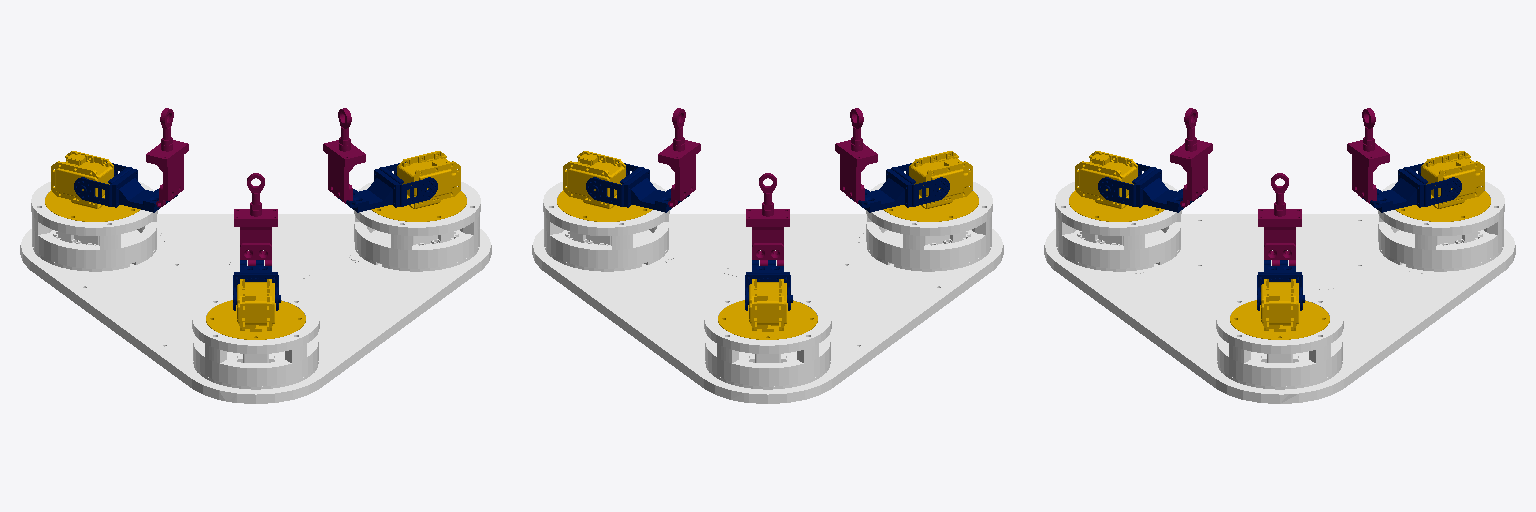
robot.urdf — arms:
<?xml version="1.0"?>

<robot name="arms">

  <link name="World_Link">
    <visual>
      <origin xyz="0 0 0" rpy="0 0 0" />
      <geometry>
        <mesh filename="package://rp3ba/meshes/World_Link.STL" />
      </geometry>
      <material name="">
        <color rgba="1 1 1 0.5" />
      </material>
    </visual>
  </link>
  
   <!-- ROBOT 1 !-->  
  
  <link name="L1R1_Link">
    <visual>
      <geometry>
        <mesh filename="package://rp3ba/meshes/L1_Link.STL" />
      </geometry>
      <material name="">
        <color rgba="0.92 0.71 0 1" />
      </material>
    </visual>
  </link>
  
  <link name="L2R1_Link">
    <visual>
      <geometry>
        <mesh filename="package://rp3ba/meshes/L2_Link.STL" />
      </geometry>
      <material name="">
        <color rgba="0 0.11 0.36 1" />
      </material>
    </visual>
  </link>
  
  <link name="L3R1_Link">
    <visual>
      <geometry>
        <mesh filename="package://rp3ba/meshes/L3_Link.STL" />
      </geometry>
      <material name="">
        <color rgba="0.51 0.06 0.31 1" />
      </material>
    </visual>
  </link>  

  <joint name="dxl_11" type="continuous">
    <origin xyz="0.175 0  0.0077" rpy="0 0 -3.1416" />
    <parent link="World_Link" />
    <child link="L1R1_Link" />
    <axis xyz="0 0 1" />
  </joint>
  
  <joint name="dxl_21" type="continuous">
    <origin xyz="0 0 0.059" rpy="1.5708 0 0" />
    <parent link="L1R1_Link" />
    <child link="L2R1_Link" />
    <axis xyz="0 0 1" />
  </joint>  
  
  <joint name="dxl_31" type="continuous">
    <origin xyz="0.0784 0 0" rpy="0 0 0" />
    <parent link="L2R1_Link" />
    <child link="L3R1_Link" />
    <axis xyz="0 0 1" />
  </joint>

   <!-- ROBOT 2 !-->  
  
  <link name="L1R2_Link">
    <visual>
      <geometry>
        <mesh filename="package://rp3ba/meshes/L1_Link.STL" />
      </geometry>
      <material name="">
        <color rgba="0.92 0.71 0 1" />
      </material>
    </visual>
  </link>
  
  <link name="L2R2_Link">
    <visual>
      <geometry>
        <mesh filename="package://rp3ba/meshes/L2_Link.STL" />
      </geometry>
      <material name="">
        <color rgba="0 0.11 0.36 1" />
      </material>
    </visual>
  </link>
  
  <link name="L3R2_Link">
    <visual>
      <geometry>
        <mesh filename="package://rp3ba/meshes/L3_Link.STL" />
      </geometry>
      <material name="">
        <color rgba="0.51 0.06 0.31 1" />
      </material>
    </visual>
  </link>  
  
   <link name ="AxR2_Link" />
  
   <joint name="Ax2_Joint" type="fixed">
    <origin xyz="0 0 0" rpy="0 0 2.0944" />
    <parent link="World_Link" />
    <child link="AxR2_Link" />
  </joint>

  <joint name="dxl_12" type="continuous">
    <origin xyz="0.175 0  0.0077" rpy="0 0 -3.1416" />
    <parent link="AxR2_Link" />
    <child link="L1R2_Link" />
    <axis xyz="0 0 1" />
  </joint>
  
  <joint name="dxl_22" type="continuous">
    <origin xyz="0 0 0.059" rpy="1.5708 0 0" />
    <parent link="L1R2_Link" />
    <child link="L2R2_Link" />
    <axis xyz="0 0 1" />
  </joint>  
  
  <joint name="dxl_32" type="continuous">
    <origin xyz="0.0784 0 0" rpy="0 0 0" />
    <parent link="L2R2_Link" />
    <child link="L3R2_Link" />
    <axis xyz="0 0 1" />
  </joint>
   
   <!-- ROBOT 3 !-->  
  
  <link name="L1R3_Link">
    <visual>
      <geometry>
        <mesh filename="package://rp3ba/meshes/L1_Link.STL" />
      </geometry>
      <material name="">
        <color rgba="0.92 0.71 0 1" />
      </material>
    </visual>
  </link>
  
  <link name="L2R3_Link">
    <visual>
      <geometry>
        <mesh filename="package://rp3ba/meshes/L2_Link.STL" />
      </geometry>
      <material name="">
        <color rgba="0 0.11 0.36 1" />
      </material>
    </visual>
  </link>
  
  <link name="L3R3_Link">
    <visual>
      <geometry>
        <mesh filename="package://rp3ba/meshes/L3_Link.STL" />
      </geometry>
      <material name="">
        <color rgba="0.51 0.06 0.31 1" />
      </material>
    </visual>
  </link>  

   <link name ="AxR3_Link" />
  
   <joint name="AxR3_Joint" type="fixed">
    <origin xyz="0 0 0" rpy="0 0 -2.0944" />
    <parent link="World_Link" />
    <child link="AxR3_Link" />
  </joint>

  <joint name="dxl_13" type="continuous">
    <origin xyz="0.175 0  0.0077" rpy="0 0 -3.1416" />
    <parent link="AxR3_Link" />
    <child link="L1R3_Link" />
    <axis xyz="0 0 1" />
  </joint>
  
  <joint name="dxl_23" type="continuous">
    <origin xyz="0 0 0.059" rpy="1.5708 0 0" />
    <parent link="L1R3_Link" />
    <child link="L2R3_Link" />
    <axis xyz="0 0 1" />
  </joint>  
  
  <joint name="dxl_33" type="continuous">
    <origin xyz="0.0784 0 0" rpy="0 0 0" />
    <parent link="L2R3_Link" />
    <child link="L3R3_Link" />
    <axis xyz="0 0 1" />
  </joint>

</robot>

--- Facts derived from the render (not from the file) ---
The picture shows the robot from 3 angles, left to right: view 1: azimuth 30°, elevation 25°; view 2: azimuth 150°, elevation 25°; view 3: azimuth 270°, elevation 25°; orthographic projection.
Model arms with 12 links and 11 joints (9 continuous, 2 fixed), rooted at World_Link, posed every joint at zero.
Links seen in each view (by area): view 1: World_Link, L1R3_Link, L1R1_Link, L1R2_Link, L3R3_Link, L2R1_Link, L2R2_Link, L3R2_Link, L3R1_Link, L2R3_Link; view 2: World_Link, L1R2_Link, L1R3_Link, L1R1_Link, L3R2_Link, L2R3_Link, L2R1_Link, L3R1_Link, L3R3_Link, L2R2_Link; view 3: World_Link, L1R1_Link, L1R2_Link, L1R3_Link, L3R1_Link, L2R2_Link, L2R3_Link, L3R3_Link, L3R2_Link, L2R1_Link.
Link boxes in pixels (bbox=[...]): World_Link: bbox=[20, 181, 491, 403]; L1R3_Link: bbox=[206, 279, 305, 339]; L1R1_Link: bbox=[371, 151, 466, 221]; L1R2_Link: bbox=[45, 151, 140, 221]; L3R3_Link: bbox=[234, 173, 277, 265]; L2R1_Link: bbox=[338, 162, 437, 212]; L2R2_Link: bbox=[74, 162, 177, 212]; L3R2_Link: bbox=[146, 108, 188, 207]; L3R1_Link: bbox=[323, 108, 365, 203]; L2R3_Link: bbox=[233, 260, 280, 310]; World_Link: bbox=[532, 181, 1003, 403]; L1R2_Link: bbox=[718, 279, 817, 339]; L1R3_Link: bbox=[883, 151, 978, 221]; L1R1_Link: bbox=[557, 151, 652, 221]; L3R2_Link: bbox=[746, 173, 789, 265]; L2R3_Link: bbox=[850, 162, 949, 212]; L2R1_Link: bbox=[586, 162, 689, 212]; L3R1_Link: bbox=[658, 108, 700, 207]; L3R3_Link: bbox=[835, 108, 877, 203]; L2R2_Link: bbox=[745, 260, 792, 310]; World_Link: bbox=[1044, 181, 1515, 403]; L1R1_Link: bbox=[1230, 279, 1329, 339]; L1R2_Link: bbox=[1395, 151, 1490, 221]; L1R3_Link: bbox=[1069, 151, 1164, 221]; L3R1_Link: bbox=[1258, 173, 1301, 265]; L2R2_Link: bbox=[1362, 162, 1461, 212]; L2R3_Link: bbox=[1098, 162, 1201, 212]; L3R3_Link: bbox=[1170, 108, 1212, 207]; L3R2_Link: bbox=[1347, 108, 1389, 203]; L2R1_Link: bbox=[1257, 260, 1304, 310].
Bounding box of the posed robot: 0.4025 × 0.4431 × 0.1696 m (x, y, z).
Meshes: 4 distinct files referenced, 10 mesh visuals loaded (4 binary STL).
